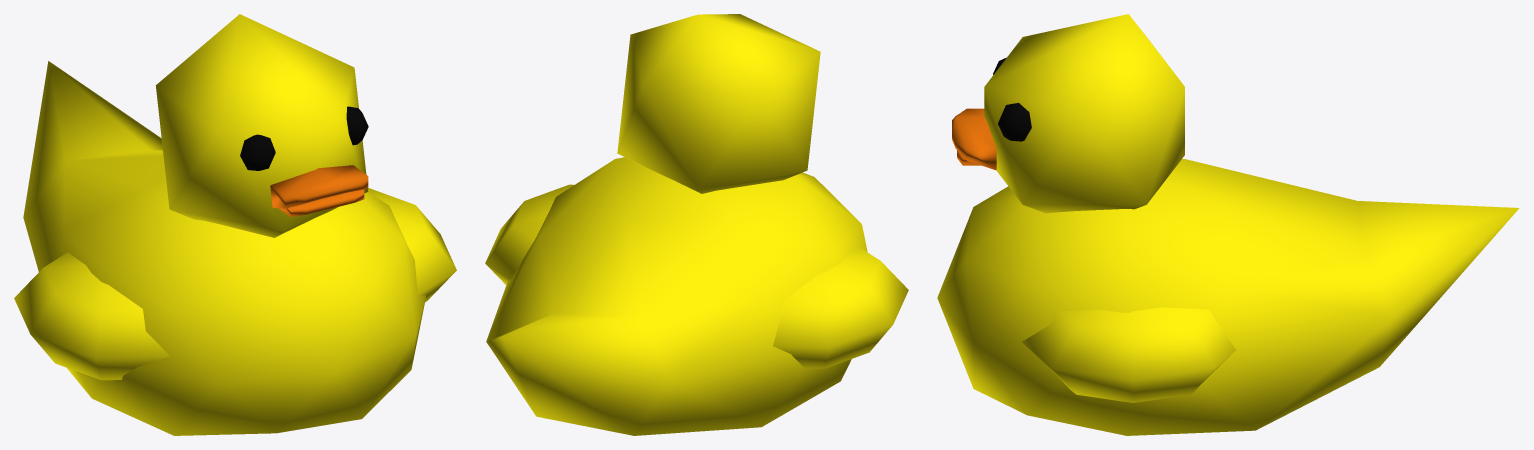
The model's file is Duck.fbx.
The picture shows the model from 3 angles, left to right: view 1: azimuth 30°, elevation 25°; view 2: azimuth 150°, elevation 25°; view 3: azimuth 270°, elevation 25°; orthographic projection. The views are drawn at different scales.
Parts seen in each view (by area): view 1: Icosphere, Cube, Sphere; view 2: Icosphere; view 3: Icosphere, Cube, Sphere.
Boxes of the visible parts, x1=… form: Icosphere: x1=14, y1=14, x2=456, y2=435; Cube: x1=270, y1=165, x2=368, y2=216; Sphere: x1=240, y1=106, x2=368, y2=170; Icosphere: x1=485, y1=14, x2=908, y2=435; Icosphere: x1=937, y1=14, x2=1519, y2=435; Cube: x1=952, y1=108, x2=996, y2=170; Sphere: x1=993, y1=57, x2=1031, y2=141.
Bounding box in the file's own units: 222 × 205 × 276.
